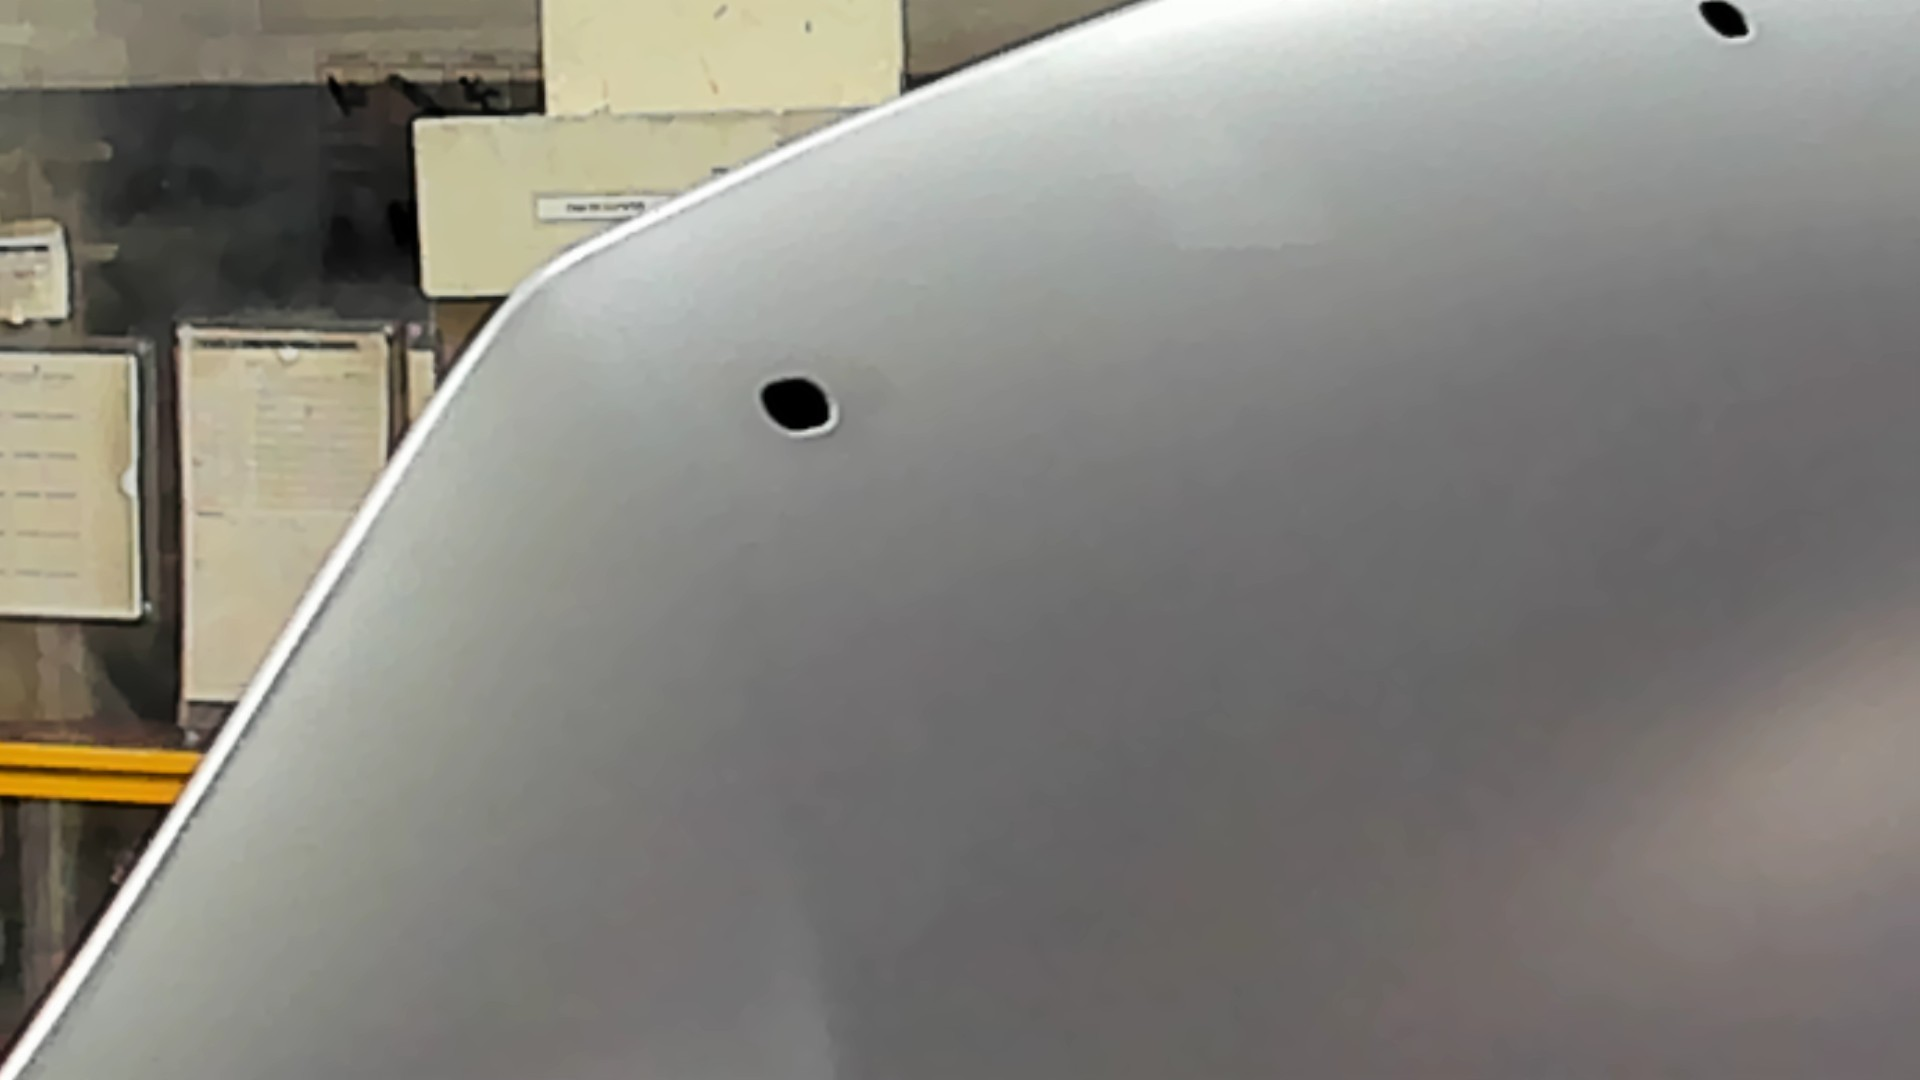amorfo: (754, 368, 843, 440), (1688, 1, 1756, 47)
capo: (923, 123, 1920, 1080)
